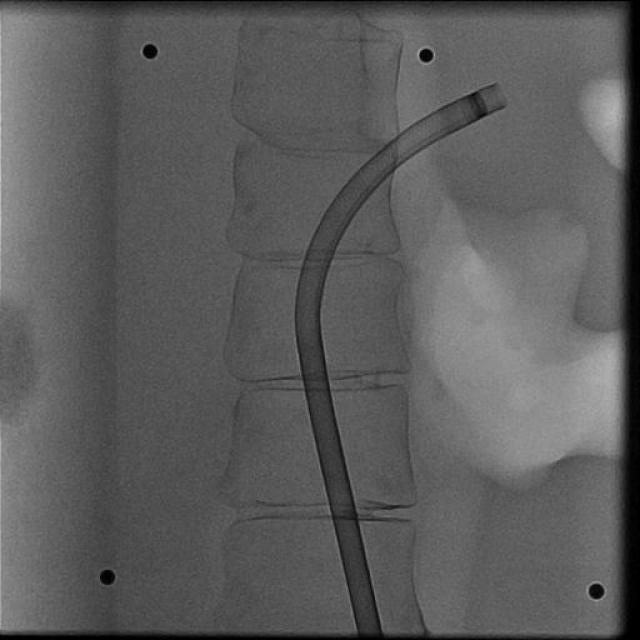bend: (295, 322, 323, 342)
entry: (357, 627, 384, 636)
marker: (466, 91, 489, 120)
tip: (493, 84, 508, 106)
